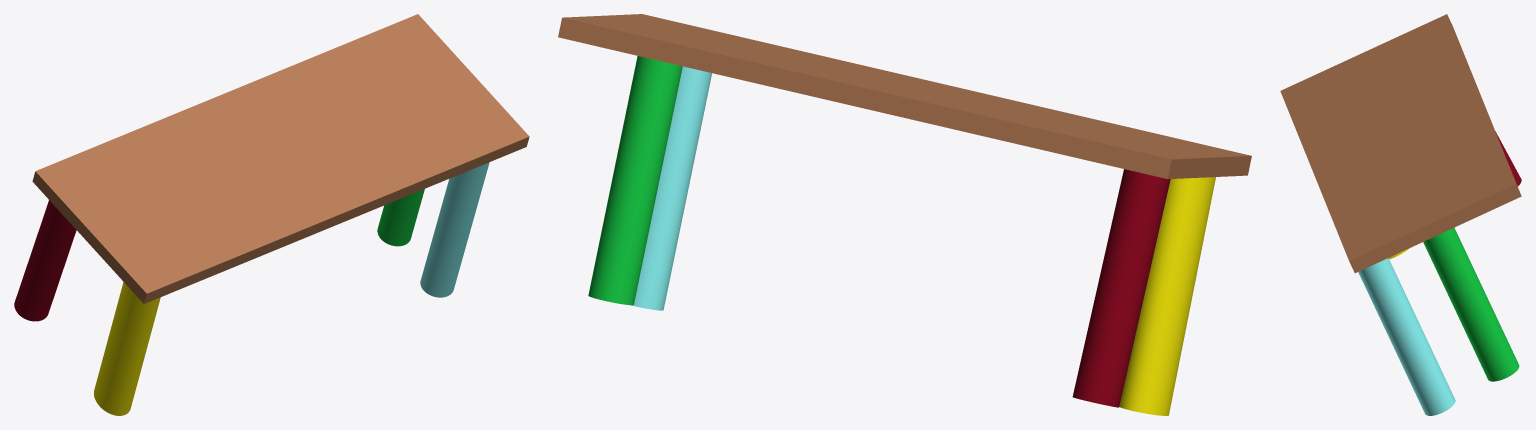
Rendered from Table.fbx.
3 renders of one model, left to right at view 1: azimuth 30°, elevation 25°; view 2: azimuth 150°, elevation 25°; view 3: azimuth 270°, elevation 25°, orthographic. The views are drawn at different scales.
Visible parts, largest first — view 1: root (×3), node_id77, node_id76; view 2: root (×3), node_id76, node_id77; view 3: root (×3), node_id76.
Boxes of the visible parts, x1,y1,x2,y2 form: root (×3): (14,14,529,321); node_id77: (94,282,160,415); node_id76: (377,189,424,246); root (×3): (558,14,1251,407); node_id76: (588,56,682,305); node_id77: (1119,177,1215,415); root (×3): (1280,14,1521,415); node_id76: (1423,227,1519,381).
Bounding box in the file's own units: 0.5181 × 0.2867 × 0.2502.
Materials: 5 (5 with a texture image).
